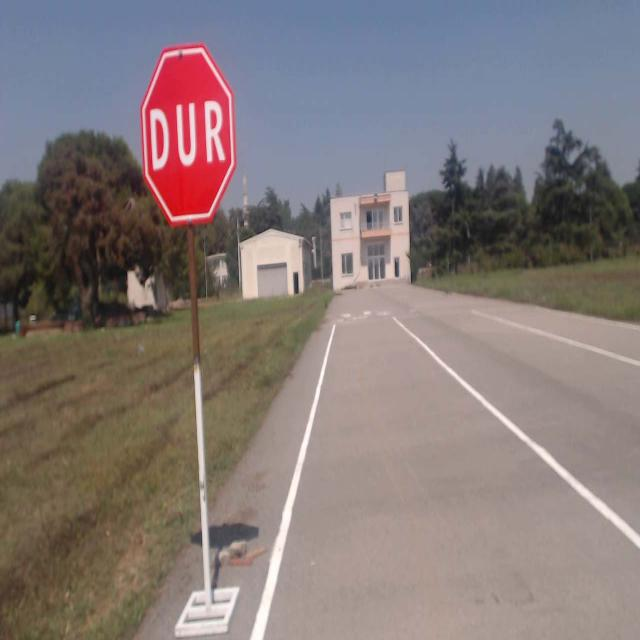dur: (138, 44, 236, 222)
